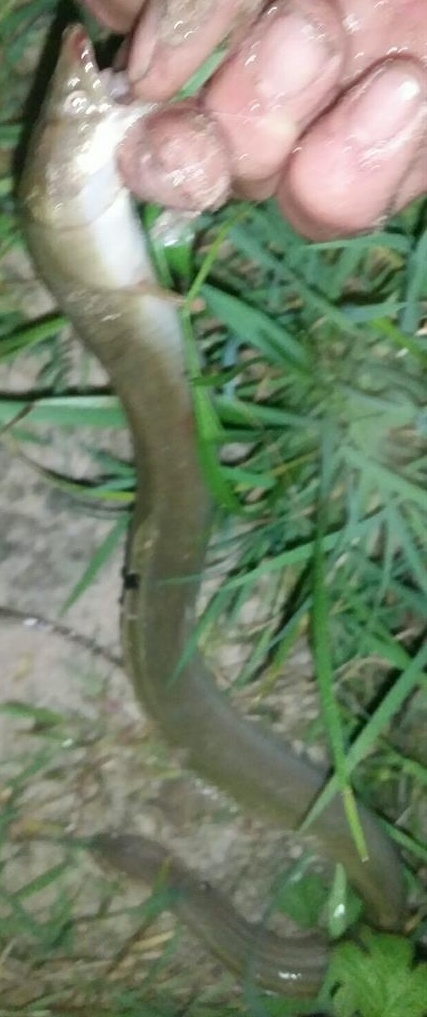Anguilla anguilla: (20, 20, 413, 997)
